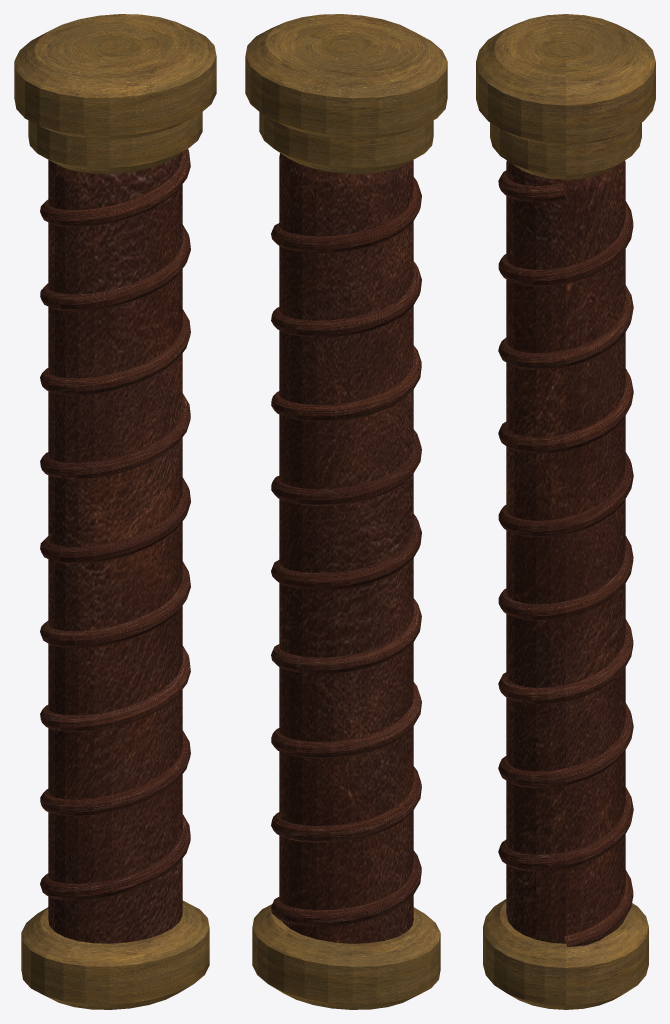
Rendered from long_hilt.obj.
The picture shows the model from 3 angles, left to right: view 1: azimuth 30°, elevation 25°; view 2: azimuth 150°, elevation 25°; view 3: azimuth 270°, elevation 25°; orthographic projection.
Visible parts, largest first — view 1: grip, wrap, pommel, heel, collar; view 2: grip, wrap, pommel, heel, collar; view 3: grip, wrap, pommel, heel, collar.
Boxes of the visible parts, x1,y1,x2,y2 form: grip: (48, 153, 182, 943); wrap: (40, 149, 190, 900); pommel: (14, 14, 216, 139); heel: (21, 900, 209, 1009); collar: (28, 112, 202, 173); grip: (279, 153, 413, 943); wrap: (271, 177, 421, 926); pommel: (245, 14, 447, 139); heel: (252, 904, 440, 1009); collar: (259, 112, 433, 173); grip: (506, 160, 625, 943); wrap: (498, 170, 633, 947); pommel: (476, 14, 655, 145); heel: (483, 899, 648, 1009); collar: (490, 122, 641, 179).
Size of the model in its own units: 22.5 by 111 by 19.5.
2 materials, 2 textured.
